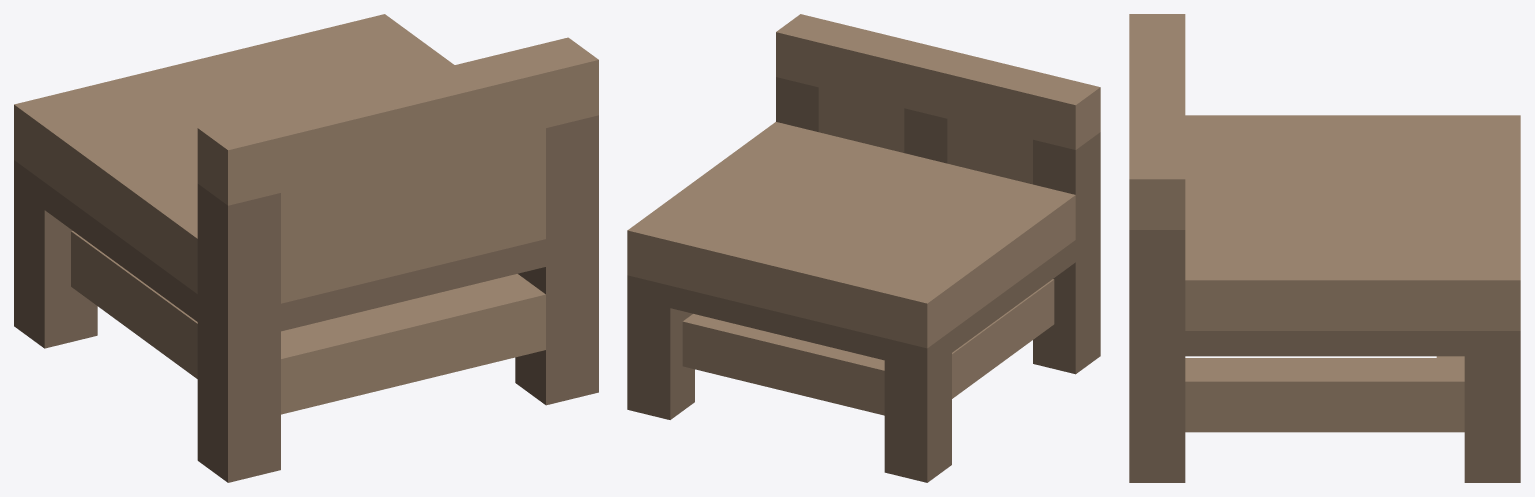
The model's file is banco_monturas_cuero_01.glb.
The picture shows the model from 3 angles, left to right: view 1: azimuth 30°, elevation 25°; view 2: azimuth 150°, elevation 25°; view 3: azimuth 270°, elevation 25°; orthographic projection. The views are drawn at different scales.
Visible parts, largest first — view 1: banco_monturas_cuero; view 2: banco_monturas_cuero; view 3: banco_monturas_cuero.
Part boxes in pixels (bbox=[...]): banco_monturas_cuero: bbox=[14, 14, 598, 482]; banco_monturas_cuero: bbox=[627, 14, 1100, 482]; banco_monturas_cuero: bbox=[1129, 14, 1520, 482].
Size of the model in its own units: 1 by 0.8571 by 1.
